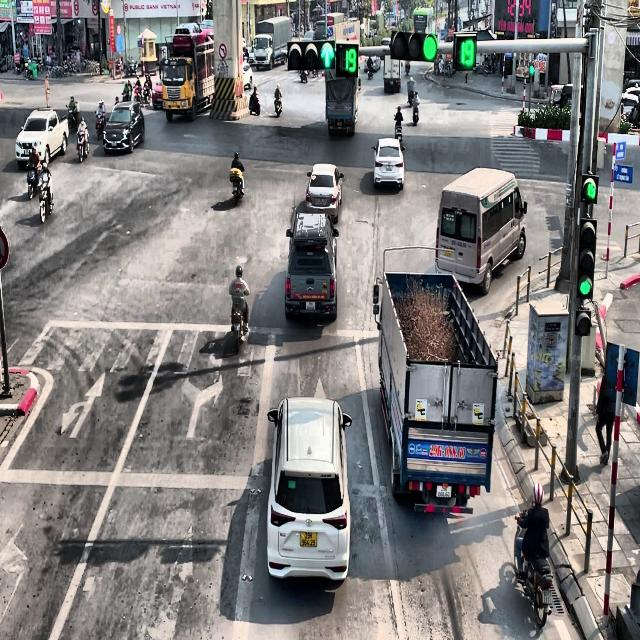lisence_plate: (407, 439, 488, 464), (299, 530, 317, 548), (435, 483, 452, 500), (452, 239, 466, 249), (304, 300, 316, 311), (444, 247, 452, 257), (386, 165, 393, 172), (318, 198, 324, 205), (337, 121, 343, 128)
